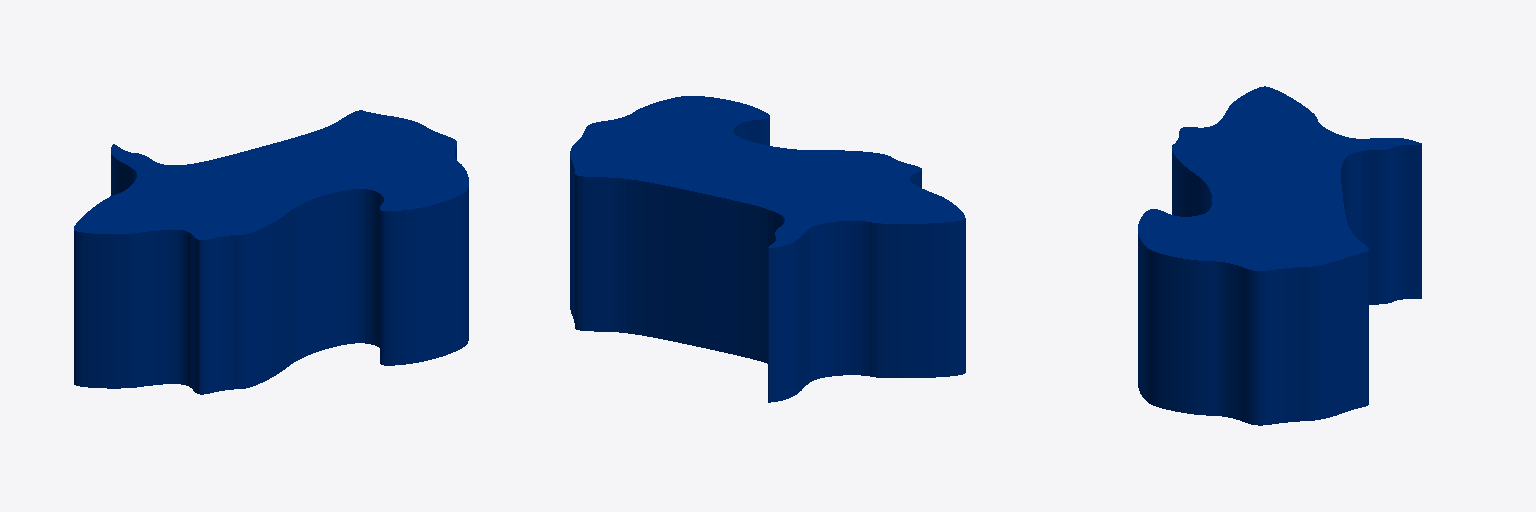
3 views of the same model, side by side, from view 1: azimuth 30°, elevation 25°; view 2: azimuth 150°, elevation 25°; view 3: azimuth 270°, elevation 25° (orthographic).
Parts seen in each view (by area): view 1: Curve.031_path4240; view 2: Curve.031_path4240; view 3: Curve.031_path4240.
Part boxes in pixels (x1,y1,x2,y2): Curve.031_path4240: (74, 110, 468, 394); Curve.031_path4240: (570, 96, 965, 402); Curve.031_path4240: (1138, 86, 1421, 425).
Bounding box in the file's own units: 0.2567 × 0.1 × 0.1669.